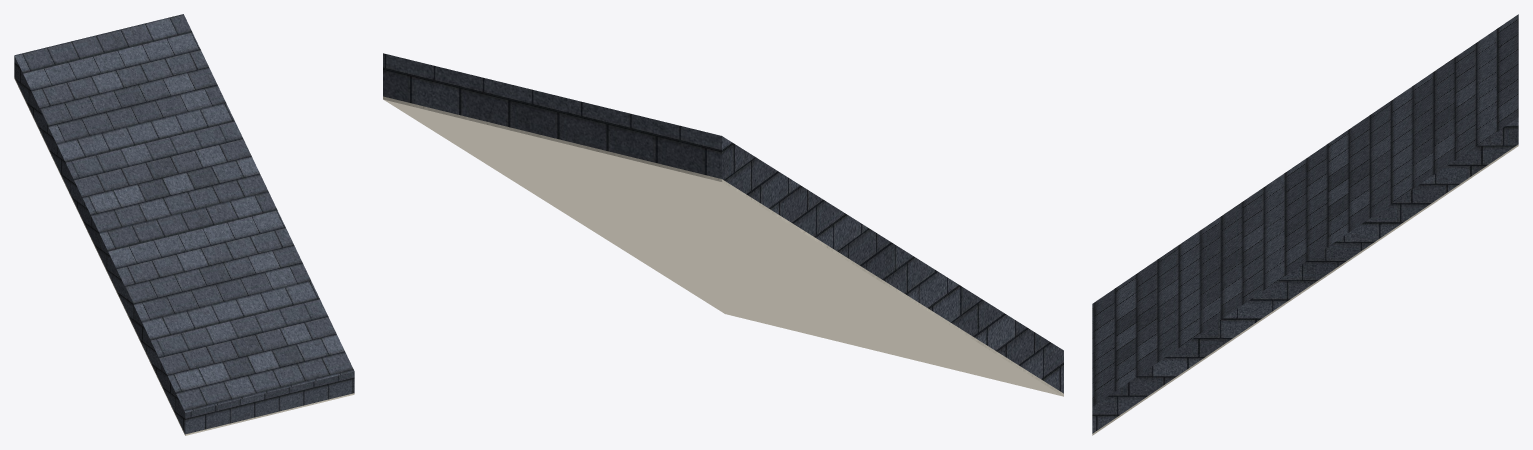
Rendered from wing_slope_wall_end_l.glb.
3 views of the same model, side by side, from view 1: azimuth 30°, elevation 25°; view 2: azimuth 150°, elevation 25°; view 3: azimuth 270°, elevation 25° (orthographic). The views are drawn at different scales.
Parts seen in each view (by area): view 1: wing_slope_wall_end_l_shingle, wing_slope_wall_end_l_plaster; view 2: wing_slope_wall_end_l_plaster, wing_slope_wall_end_l_shingle; view 3: wing_slope_wall_end_l_shingle, wing_slope_wall_end_l_plaster.
Boxes of the visible parts, bbox=[...] form: wing_slope_wall_end_l_shingle: bbox=[14, 14, 354, 434]; wing_slope_wall_end_l_plaster: bbox=[14, 77, 354, 435]; wing_slope_wall_end_l_plaster: bbox=[383, 96, 1063, 396]; wing_slope_wall_end_l_shingle: bbox=[383, 53, 1063, 393]; wing_slope_wall_end_l_shingle: bbox=[1092, 14, 1518, 433]; wing_slope_wall_end_l_plaster: bbox=[1092, 144, 1518, 435].
Size of the model in its own units: 2.3 by 3.32 by 4.02.
Materials: 2 (2 with a texture image).
